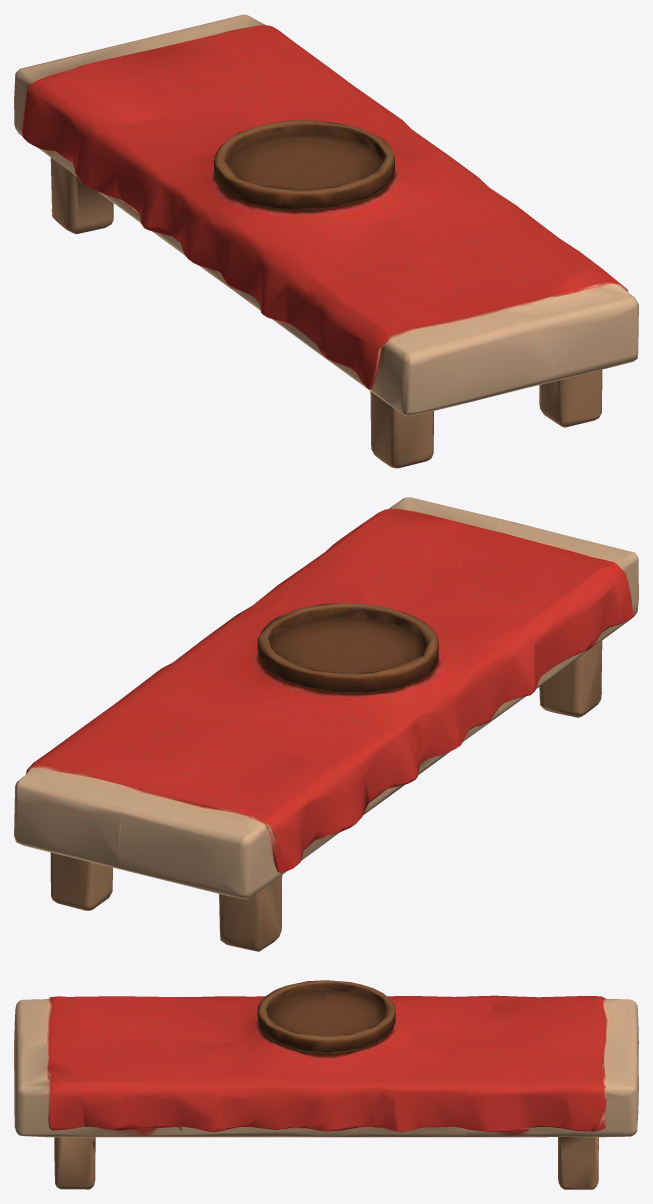
File: JP_사물_s2_seat_endai.glb
3 renders of one model, top to bottom at view 1: azimuth 30°, elevation 25°; view 2: azimuth 150°, elevation 25°; view 3: azimuth 270°, elevation 25°, orthographic. The views are drawn at different scales.
Parts seen in each view (by area): view 1: tripo_node_b356b2e1-95d7-4efc-9aea-a07159ff825e; view 2: tripo_node_b356b2e1-95d7-4efc-9aea-a07159ff825e; view 3: tripo_node_b356b2e1-95d7-4efc-9aea-a07159ff825e.
Part boxes in pixels (x1,y1,x2,y2): tripo_node_b356b2e1-95d7-4efc-9aea-a07159ff825e: (14,14,638,468); tripo_node_b356b2e1-95d7-4efc-9aea-a07159ff825e: (14,497,638,951); tripo_node_b356b2e1-95d7-4efc-9aea-a07159ff825e: (14,980,638,1189).
Bounding box in the file's own units: 0.871 × 0.5242 × 2.2.
Materials: 1 (1 with a texture image).
